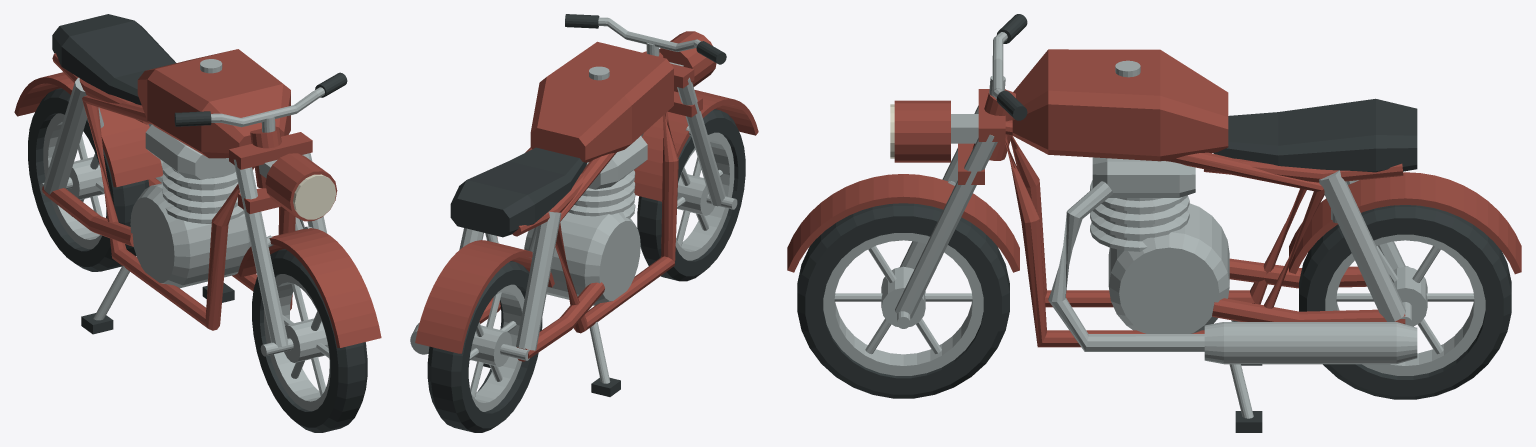
3 renders of one model, left to right at view 1: azimuth 30°, elevation 25°; view 2: azimuth 150°, elevation 25°; view 3: azimuth 270°, elevation 25°, orthographic. The views are drawn at different scales.
Visible parts, largest first — view 1: WholeSculptedLongFuelTankExterior, WholeCentralCrankcase, WholeFrontTire, WholeLongTwoLevelSaddle, WholeFrontArchMudguard, WholeDoubleCradleLoopLeft, WholeRearTire, WholeRearArchMudguard, WholeIntegralFinnedCylinderExterior, WholeFrontForkLegLeft, WholeFrontOpenRim, WholeRearSuspensionStrutLeft (+17 smaller); view 2: WholeSculptedLongFuelTankExterior, WholeLongTwoLevelSaddle, WholeRearTire, WholeCentralCrankcase, WholeRearArchMudguard, WholeFrontTire, WholeDoubleCradleLoopLeft, WholeFrontArchMudguard, WholeRearSuspensionStrutLeft, WholeFrontOpenRim, WholeRearOpenRim, WholeFrontForkLegLeft (+14 smaller); view 3: WholeSculptedLongFuelTankExterior, WholeFrontTire, WholeRearTire, WholeLongTwoLevelSaddle, WholeCentralCrankcase, WholeLowLongMuffler, WholeRearArchMudguard, WholeFrontArchMudguard, WholeDoubleCradleLoopRight, WholeFrontOpenRim, WholeBentExhaustHeader, WholeIntegralFinnedCylinderExterior (+16 smaller).
Boxes of the visible parts, bbox=[...] form: WholeSculptedLongFuelTankExterior: bbox=[137, 49, 290, 158]; WholeCentralCrankcase: bbox=[130, 183, 250, 288]; WholeFrontTire: bbox=[252, 249, 367, 432]; WholeLongTwoLevelSaddle: bbox=[52, 14, 176, 105]; WholeFrontArchMudguard: bbox=[238, 228, 381, 347]; WholeDoubleCradleLoopLeft: bbox=[82, 95, 254, 330]; WholeRearTire: bbox=[28, 88, 149, 271]; WholeRearArchMudguard: bbox=[14, 72, 162, 187]; WholeIntegralFinnedCylinderExterior: bbox=[162, 162, 244, 223]; WholeFrontForkLegLeft: bbox=[234, 159, 288, 347]; WholeFrontOpenRim: bbox=[264, 274, 330, 410]; WholeRearSuspensionStrutLeft: bbox=[43, 77, 87, 194]; WholeSculptedLongFuelTankExterior: bbox=[530, 41, 673, 162]; WholeLongTwoLevelSaddle: bbox=[450, 147, 586, 237]; WholeRearTire: bbox=[427, 261, 542, 432]; WholeCentralCrankcase: bbox=[524, 212, 640, 305]; WholeRearArchMudguard: bbox=[415, 240, 554, 353]; WholeFrontTire: bbox=[637, 109, 745, 281]; WholeDoubleCradleLoopLeft: bbox=[555, 112, 678, 333]; WholeFrontArchMudguard: bbox=[634, 90, 758, 201]; WholeRearSuspensionStrutLeft: bbox=[516, 211, 561, 350]; WholeFrontOpenRim: bbox=[675, 132, 734, 260]; WholeRearOpenRim: bbox=[471, 284, 524, 411]; WholeFrontForkLegLeft: bbox=[677, 77, 725, 206]; WholeSculptedLongFuelTankExterior: bbox=[1012, 49, 1228, 161]; WholeFrontTire: bbox=[797, 203, 1009, 398]; WholeRearTire: bbox=[1299, 205, 1511, 399]; WholeLongTwoLevelSaddle: bbox=[1213, 98, 1417, 172]; WholeCentralCrankcase: bbox=[1108, 203, 1229, 333]; WholeLowLongMuffler: bbox=[1204, 322, 1417, 364]; WholeRearArchMudguard: bbox=[1289, 172, 1521, 274]; WholeFrontArchMudguard: bbox=[787, 174, 1019, 272]; WholeDoubleCradleLoopRight: bbox=[1005, 120, 1324, 347]; WholeFrontOpenRim: bbox=[823, 233, 983, 375]; WholeBentExhaustHeader: bbox=[1048, 181, 1204, 351]; WholeIntegralFinnedCylinderExterior: bbox=[1090, 180, 1189, 251].
Bounding box in the file's own units: 0.7617 × 1.25 × 2.49.
